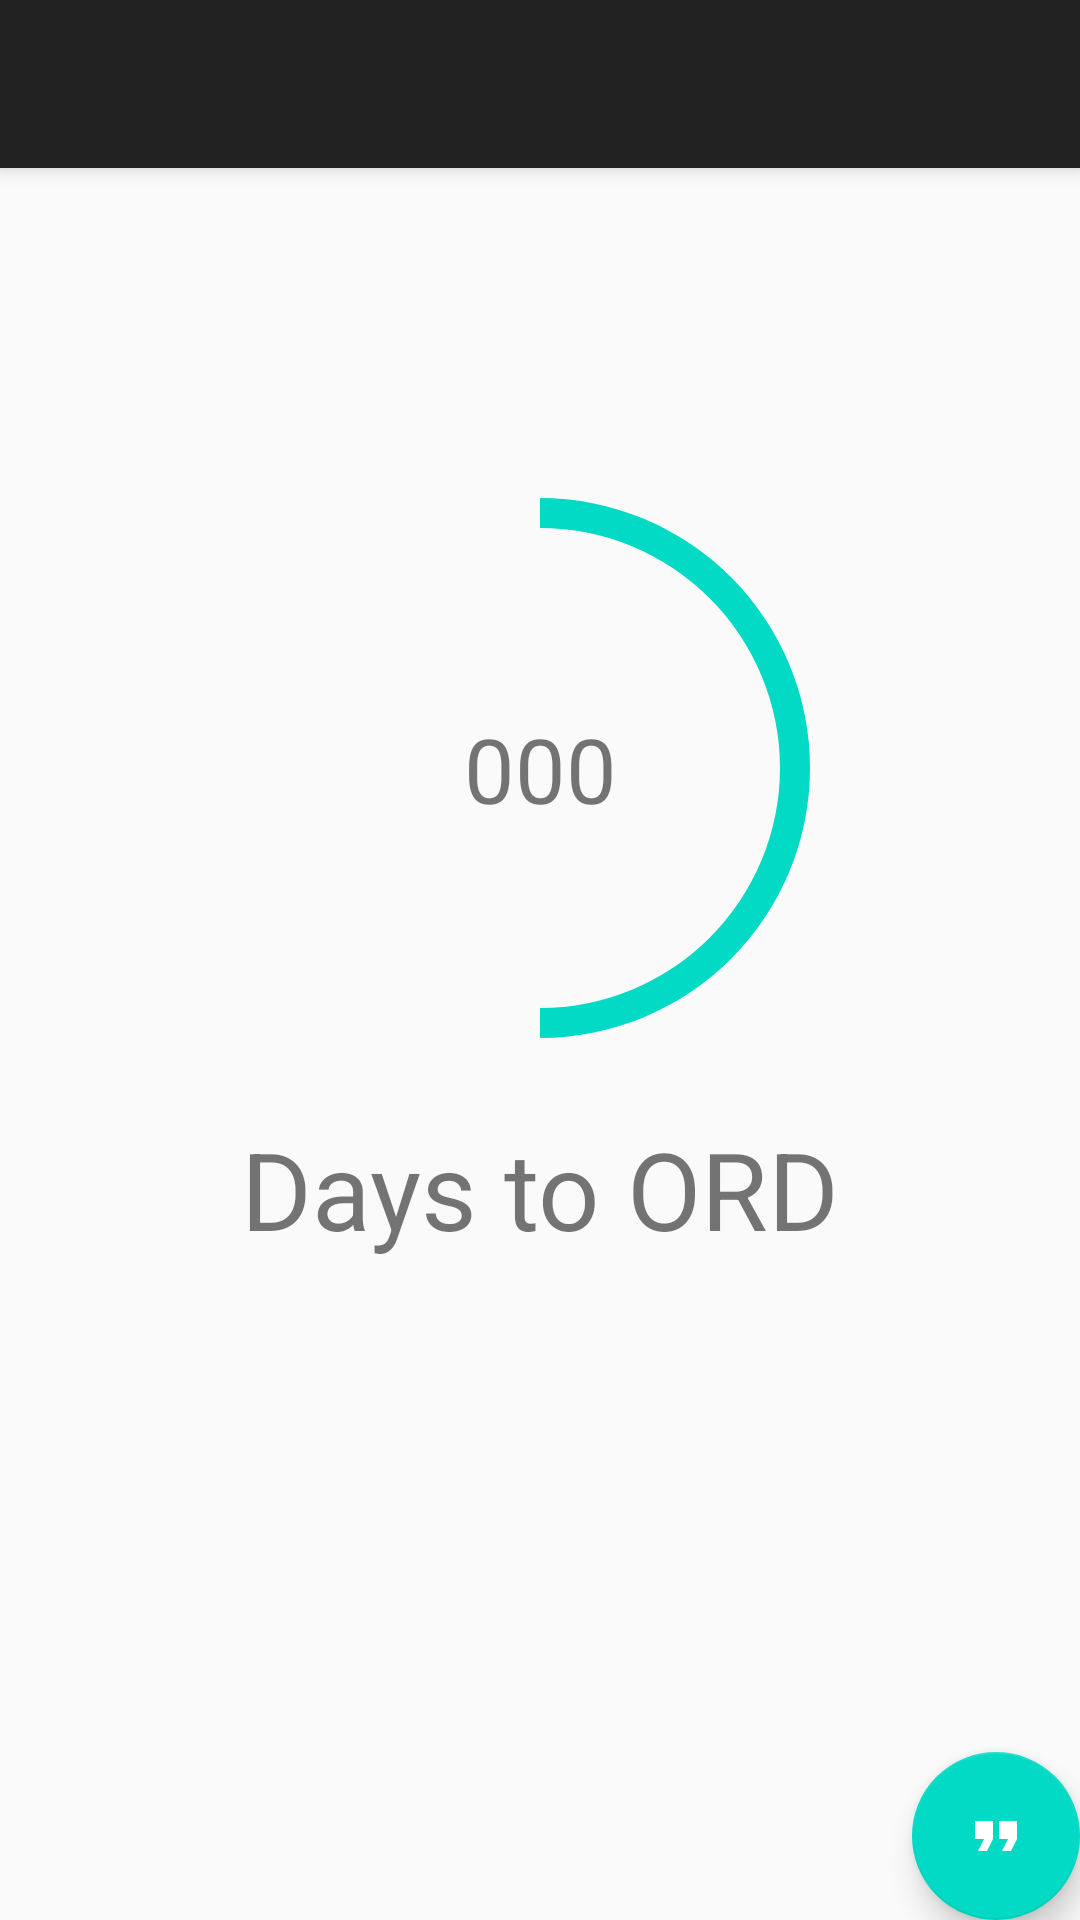

Icons on this 1080x1920 Android screen, each with its box as (x1, y1, x2, y2):
format quote: (912, 1752, 1080, 1920)
